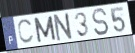3: (74, 12, 90, 37)
5: (109, 6, 128, 34)
C: (17, 18, 35, 45)
M: (32, 15, 58, 44)
N: (53, 11, 75, 43)
S: (91, 8, 111, 37)
